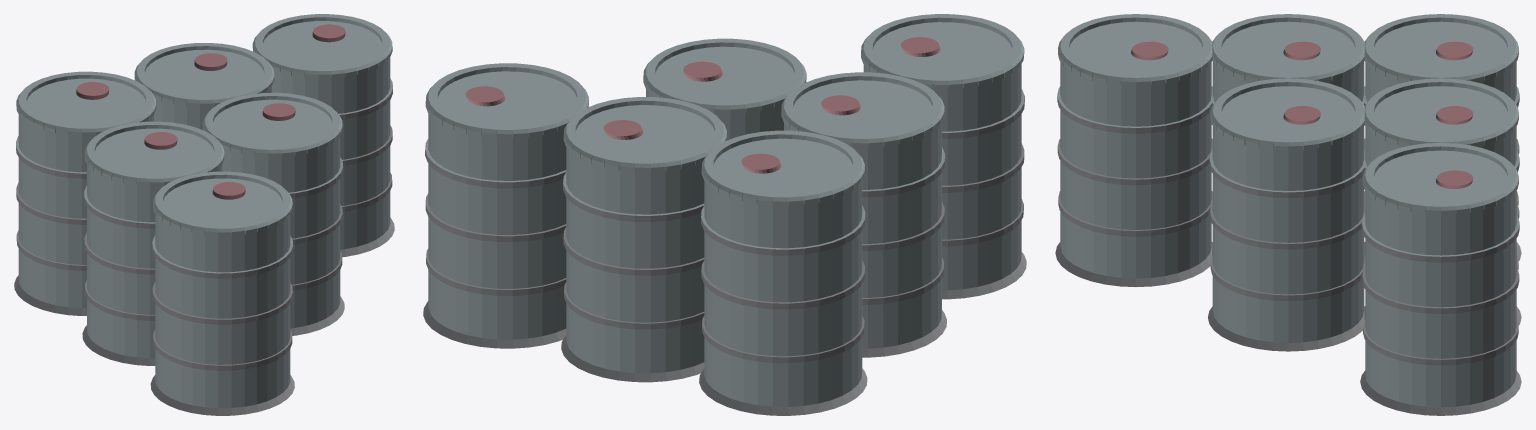
The picture shows the model from 3 angles, left to right: view 1: azimuth 30°, elevation 25°; view 2: azimuth 150°, elevation 25°; view 3: azimuth 270°, elevation 25°; orthographic projection. The views are drawn at different scales.
Visible parts, largest first — view 1: colored; view 2: colored; view 3: colored.
Part boxes in pixels (<box>): colored: <box>14,14,394,415</box>; colored: <box>423,14,1026,415</box>; colored: <box>1055,14,1521,415</box>.
Bounding box in the file's own units: 3.06 × 1.53 × 3.06.
